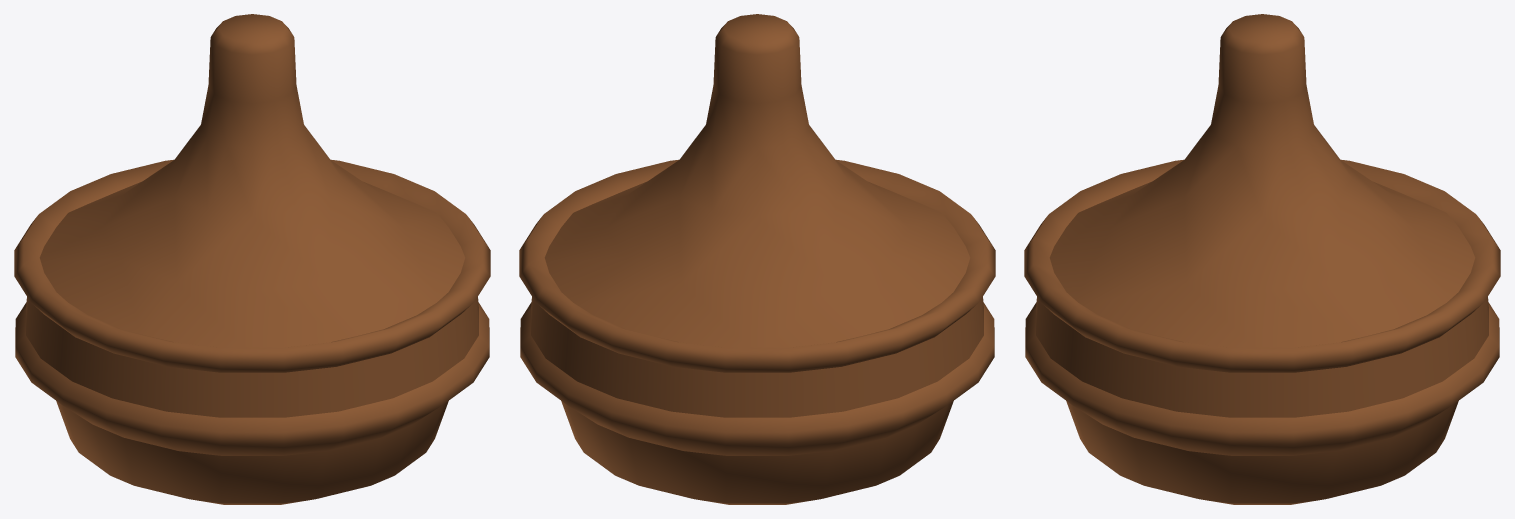
File: DI_036_bottle.glb
The picture shows the model from 3 angles, left to right: view 1: azimuth 30°, elevation 25°; view 2: azimuth 150°, elevation 25°; view 3: azimuth 270°, elevation 25°; orthographic projection.
Visible parts, largest first — view 1: Bottle02.001; view 2: Bottle02.001; view 3: Bottle02.001.
Part boxes in pixels (bbox=[...]): Bottle02.001: bbox=[14, 14, 490, 504]; Bottle02.001: bbox=[519, 14, 995, 504]; Bottle02.001: bbox=[1024, 14, 1500, 504].
Size of the model in its own units: 0.6841 by 0.6854 by 0.6842.
